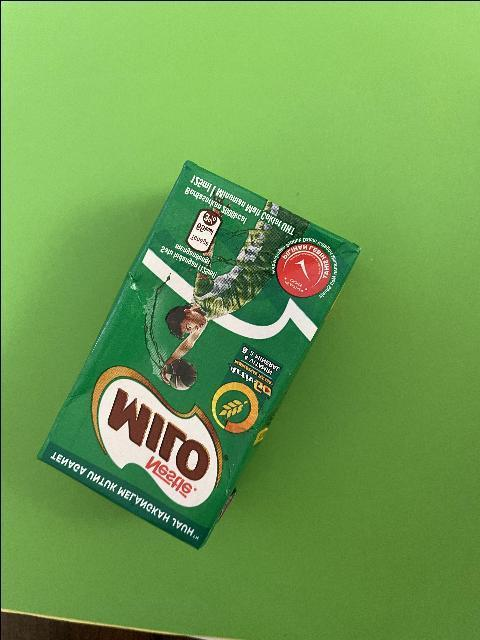drinkpack: (34, 155, 360, 550)
